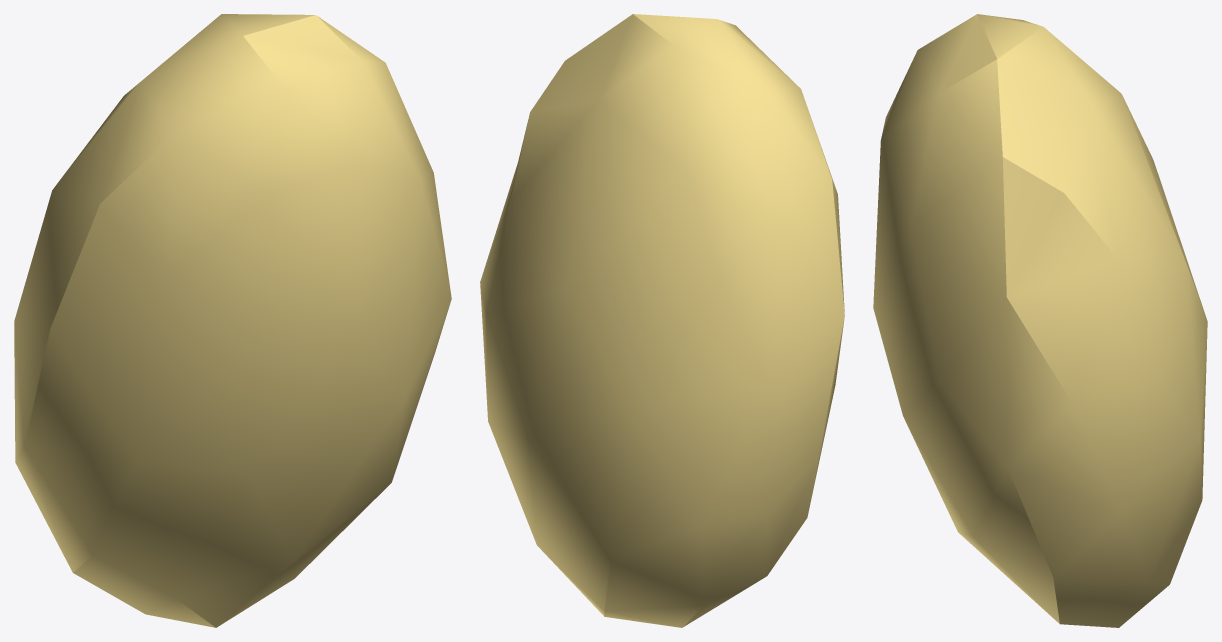
File: fma54583_mm2661m.glb
The picture shows the model from 3 angles, left to right: view 1: azimuth 30°, elevation 25°; view 2: azimuth 150°, elevation 25°; view 3: azimuth 270°, elevation 25°; orthographic projection. The views are drawn at different scales.
Parts seen in each view (by area): view 1: FMA54583_MM2661M; view 2: FMA54583_MM2661M; view 3: FMA54583_MM2661M.
Part boxes in pixels (x1,y1,x2,y2): FMA54583_MM2661M: (14, 14, 451, 627); FMA54583_MM2661M: (480, 14, 844, 627); FMA54583_MM2661M: (873, 14, 1207, 627).
Bounding box in the file's own units: 0.00171 × 0.00267 × 0.00137.
